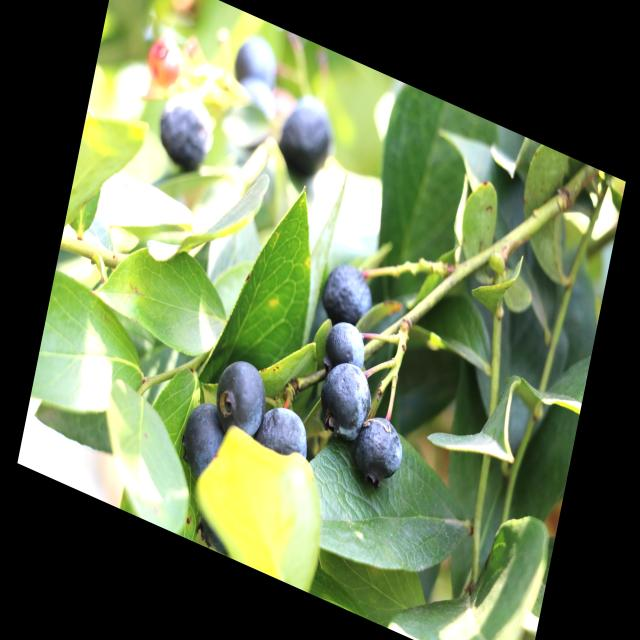blueberry: (150, 74, 229, 189), (268, 85, 345, 197), (308, 344, 384, 455), (168, 380, 237, 494), (208, 340, 278, 451), (244, 386, 320, 488), (341, 401, 413, 504), (314, 252, 383, 346), (315, 304, 377, 394), (231, 22, 290, 108)
blueberry-halfripe: (145, 31, 186, 90)
